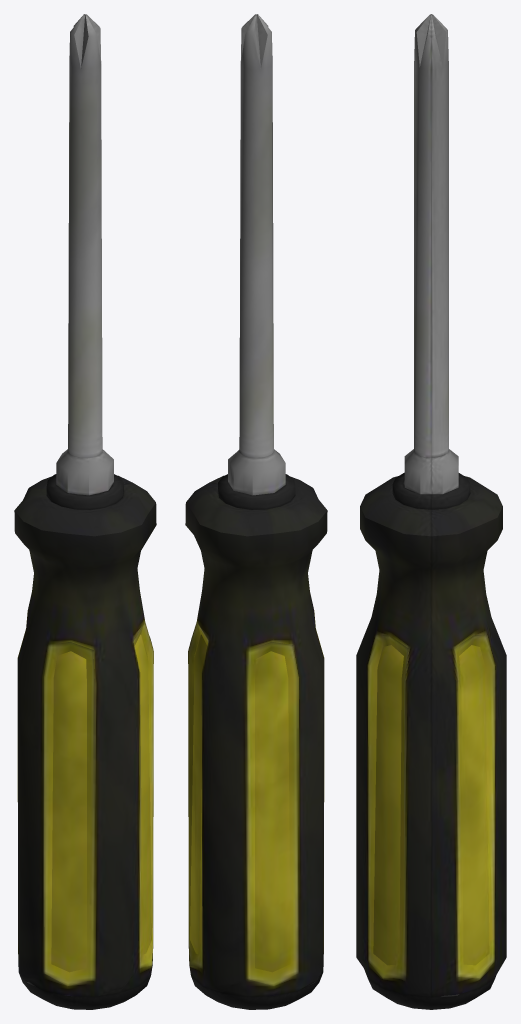
File: philips.glb
3 renders of one model, left to right at view 1: azimuth 30°, elevation 25°; view 2: azimuth 150°, elevation 25°; view 3: azimuth 270°, elevation 25°, orthographic.
Visible parts, largest first — view 1: Philips; view 2: Philips; view 3: Philips.
Boxes of the visible parts, bbox=[...] form: Philips: bbox=[14, 14, 156, 1009]; Philips: bbox=[185, 14, 327, 1009]; Philips: bbox=[356, 14, 506, 1009].
Bounding box in the file's own units: 0.0337 × 0.2444 × 0.0337.
Materials: 1 (1 with a texture image).
